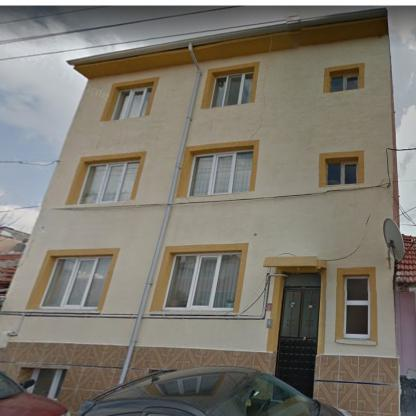door: (275, 273, 320, 398)
window: (163, 254, 240, 310), (40, 257, 111, 309), (188, 149, 252, 197), (78, 161, 140, 203), (344, 276, 370, 339), (210, 72, 252, 107), (112, 86, 151, 121), (26, 370, 67, 399), (327, 162, 357, 185), (330, 71, 358, 91)
